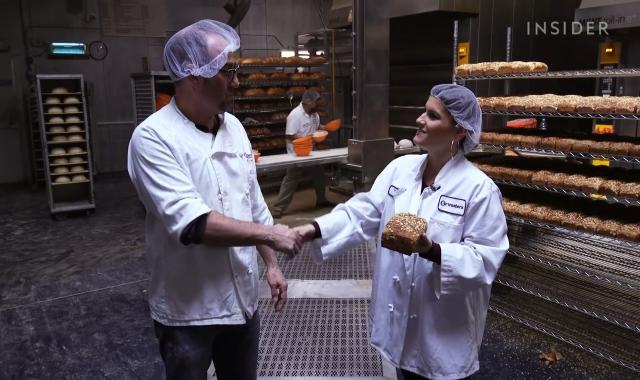hairnet: (160, 19, 241, 70), (428, 78, 484, 151), (303, 89, 318, 108), (446, 36, 446, 36)
